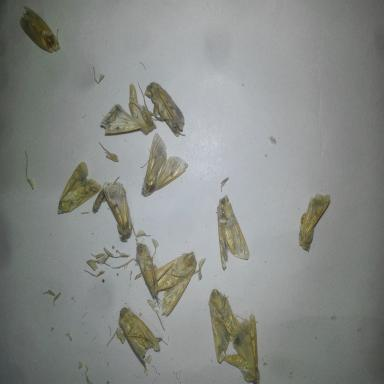abw: (147, 248, 206, 321), (139, 130, 190, 200), (204, 285, 248, 366), (98, 80, 158, 137), (217, 310, 263, 383), (54, 158, 104, 220), (215, 192, 252, 272), (116, 302, 162, 366), (142, 76, 188, 140), (101, 178, 137, 248), (16, 3, 62, 57), (296, 190, 333, 255), (133, 239, 164, 311)
